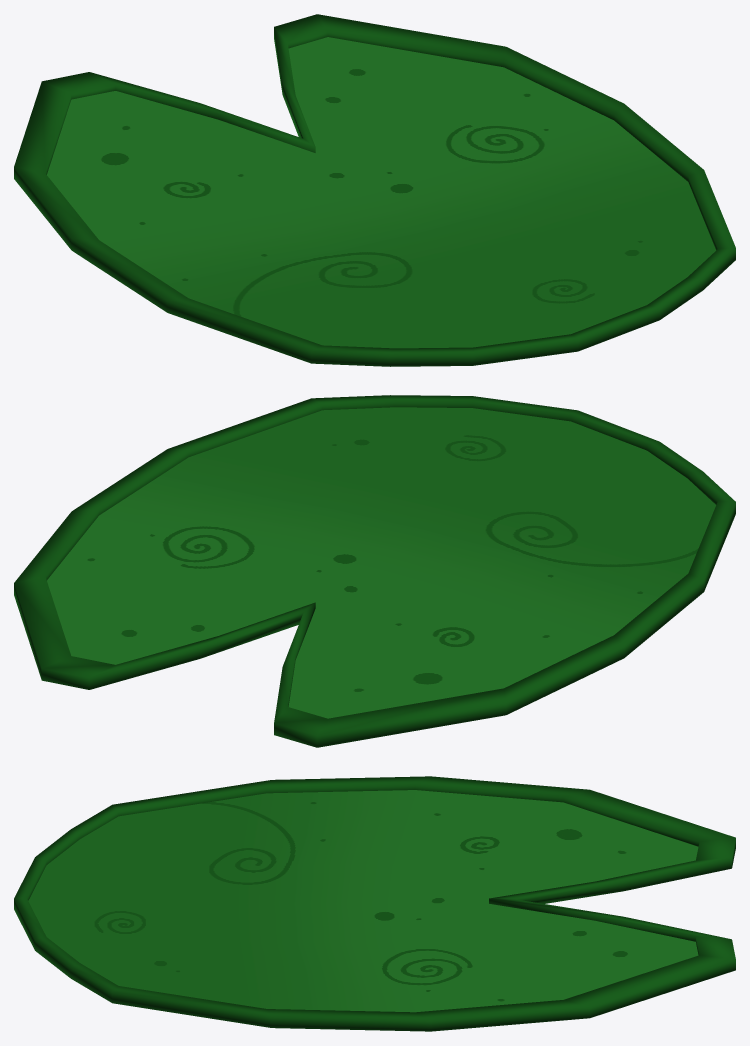
The model's file is Lilypad4.fbx.
3 renders of one model, top to bottom at view 1: azimuth 30°, elevation 25°; view 2: azimuth 150°, elevation 25°; view 3: azimuth 270°, elevation 25°, orthographic. The views are drawn at different scales.
Parts seen in each view (by area): view 1: Plane.027; view 2: Plane.027; view 3: Plane.027.
Boxes of the visible parts, x1,y1,x2,y2 form: Plane.027: (14, 14, 735, 366); Plane.027: (14, 395, 735, 747); Plane.027: (14, 776, 735, 1031).
Bounding box in the file's own units: 182 × 3.81 × 227.
Materials: 1 (1 with a texture image).
